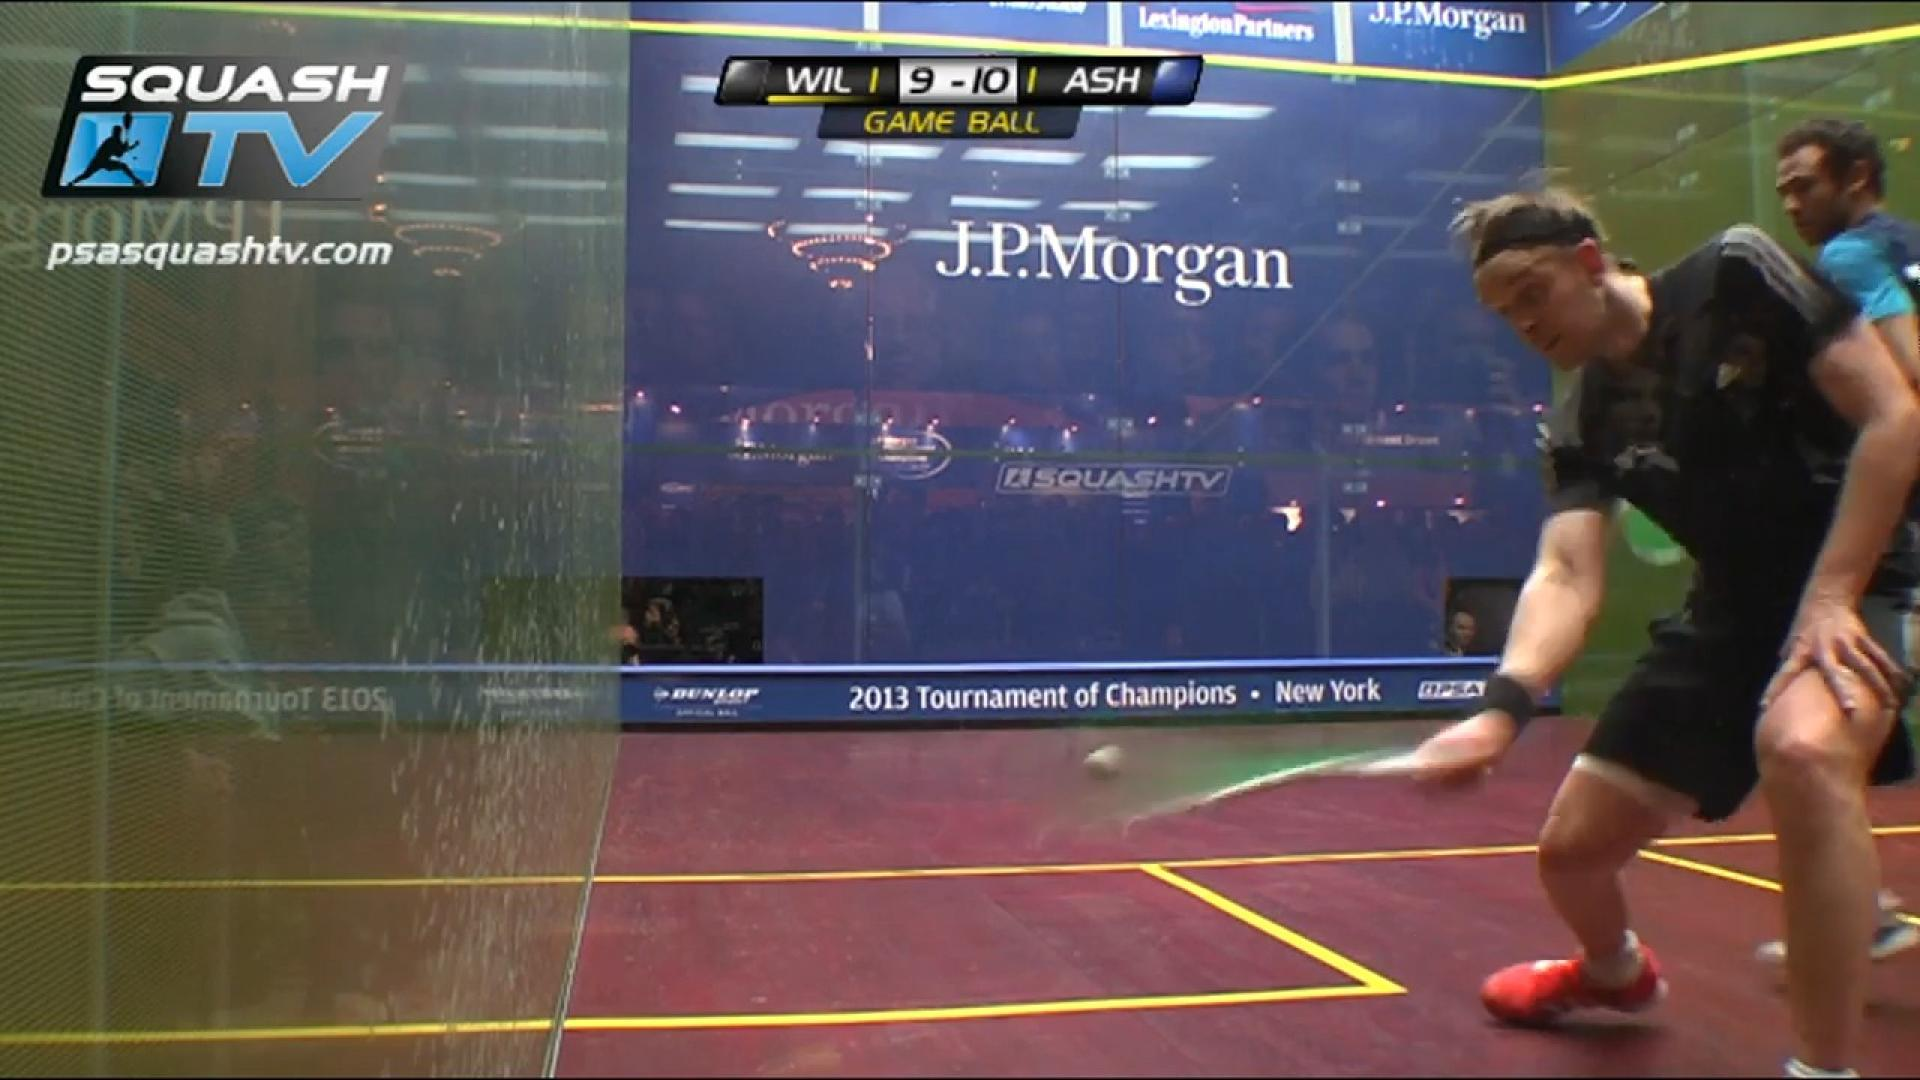Squash-Ball: (1064, 745, 1130, 795)
